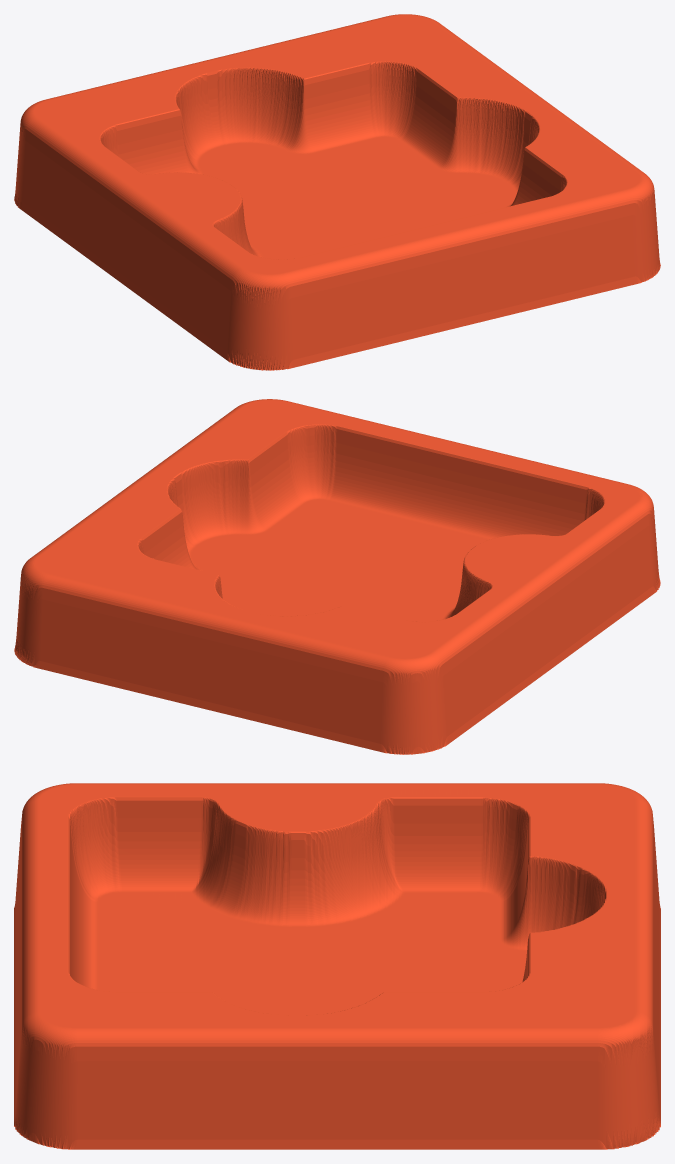
File: mold.glb
The picture shows the model from 3 angles, top to bottom: view 1: azimuth 30°, elevation 25°; view 2: azimuth 150°, elevation 25°; view 3: azimuth 270°, elevation 25°; orthographic projection. The views are drawn at different scales.
Visible parts, largest first — view 1: geometry_0; view 2: geometry_0; view 3: geometry_0.
Part boxes in pixels (box(x1,y1,x2,y2)): geometry_0: box(14, 14, 660, 370); geometry_0: box(14, 399, 660, 754); geometry_0: box(14, 783, 660, 1149).
Size of the model in its own units: 0.0894 by 0.0175 by 0.0924.
